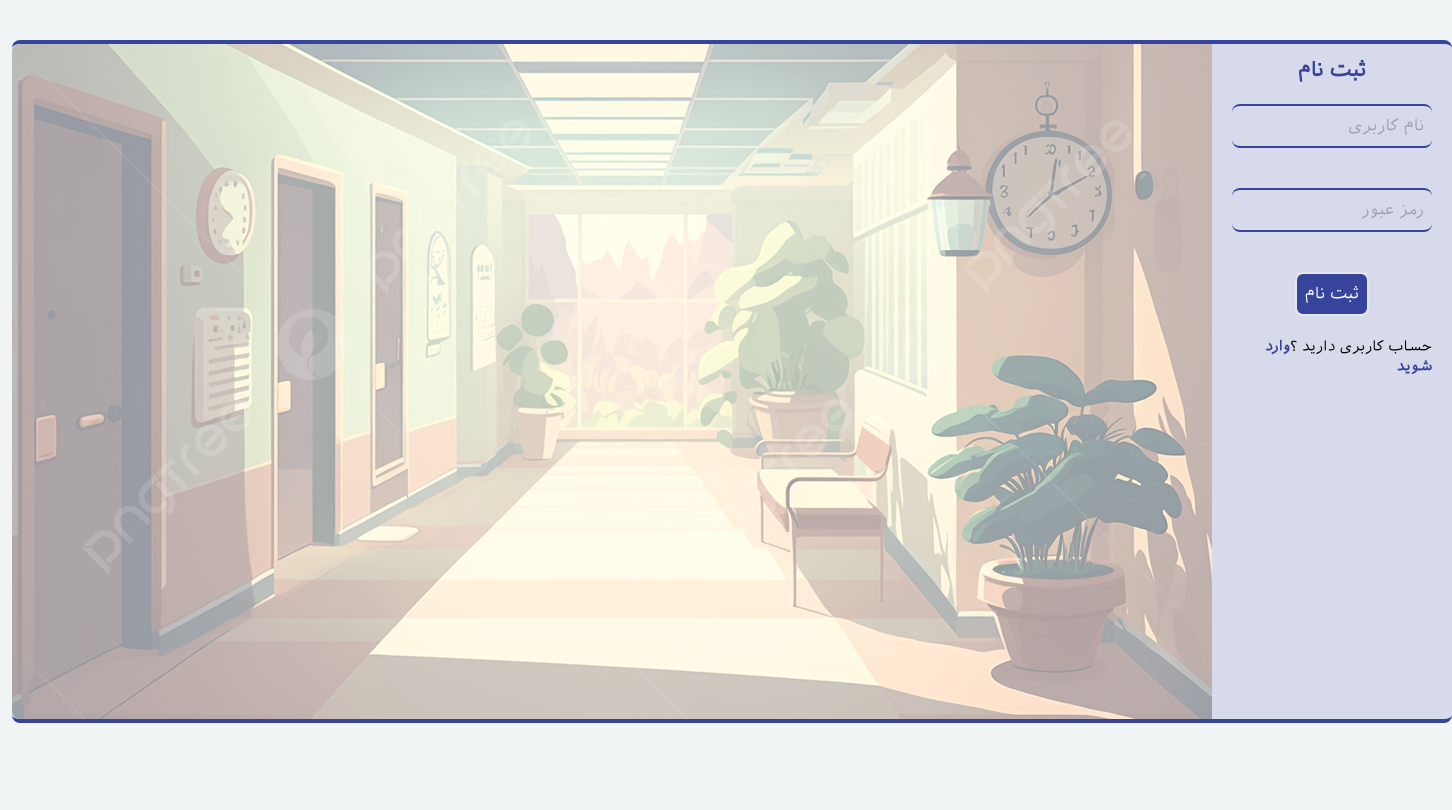
Test: testing error handling › username error test
The image size is (1452, 810).
expect the text "لطفا یوزرنیم معتبر وارد کنید" is not shown: met
Type "salam" into the field with placeholder "نام کاربری" at [1332, 126], box [1232, 104, 1432, 148]
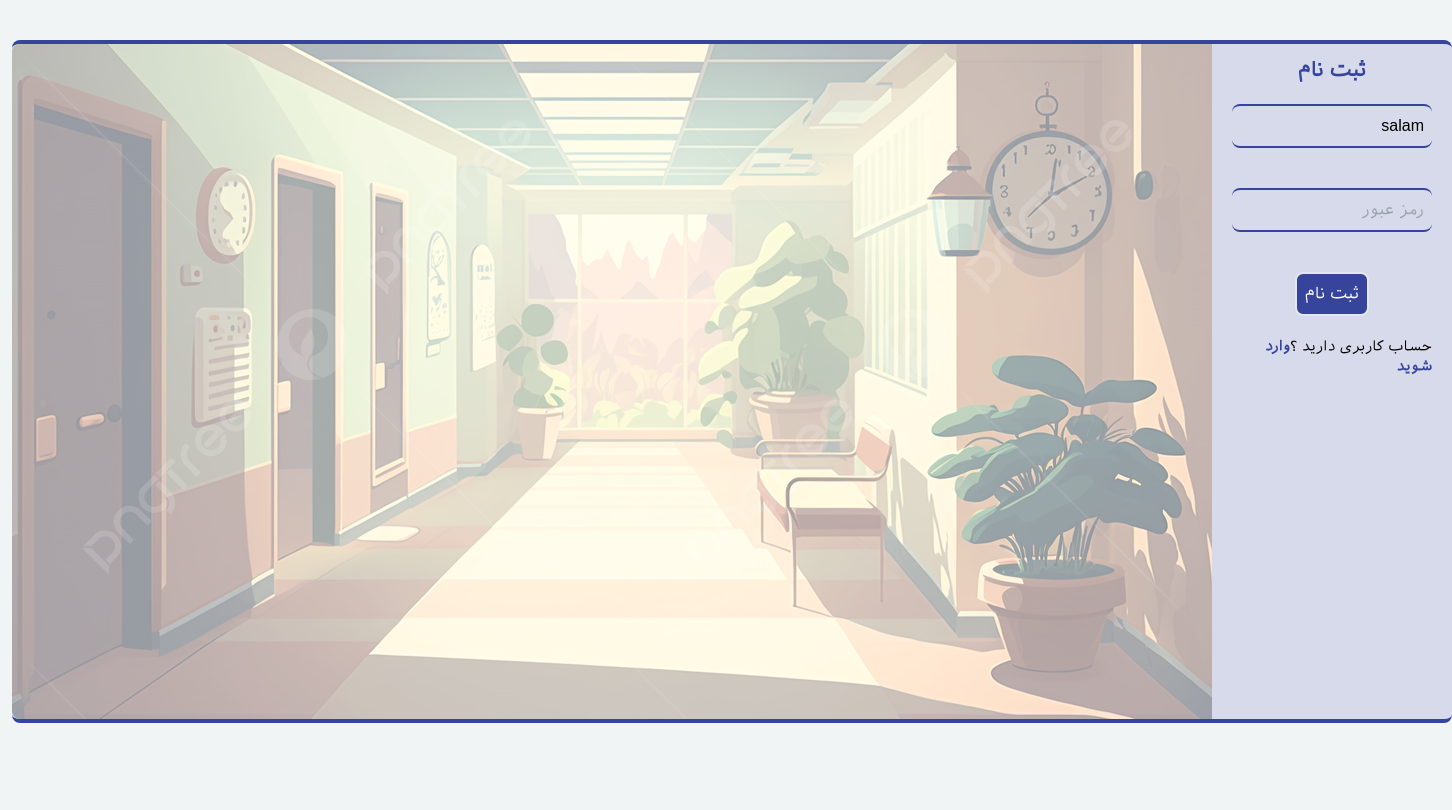
Type "123456" into the password field with placeholder "رمز عبور" at [1332, 210], box [1232, 188, 1432, 232]
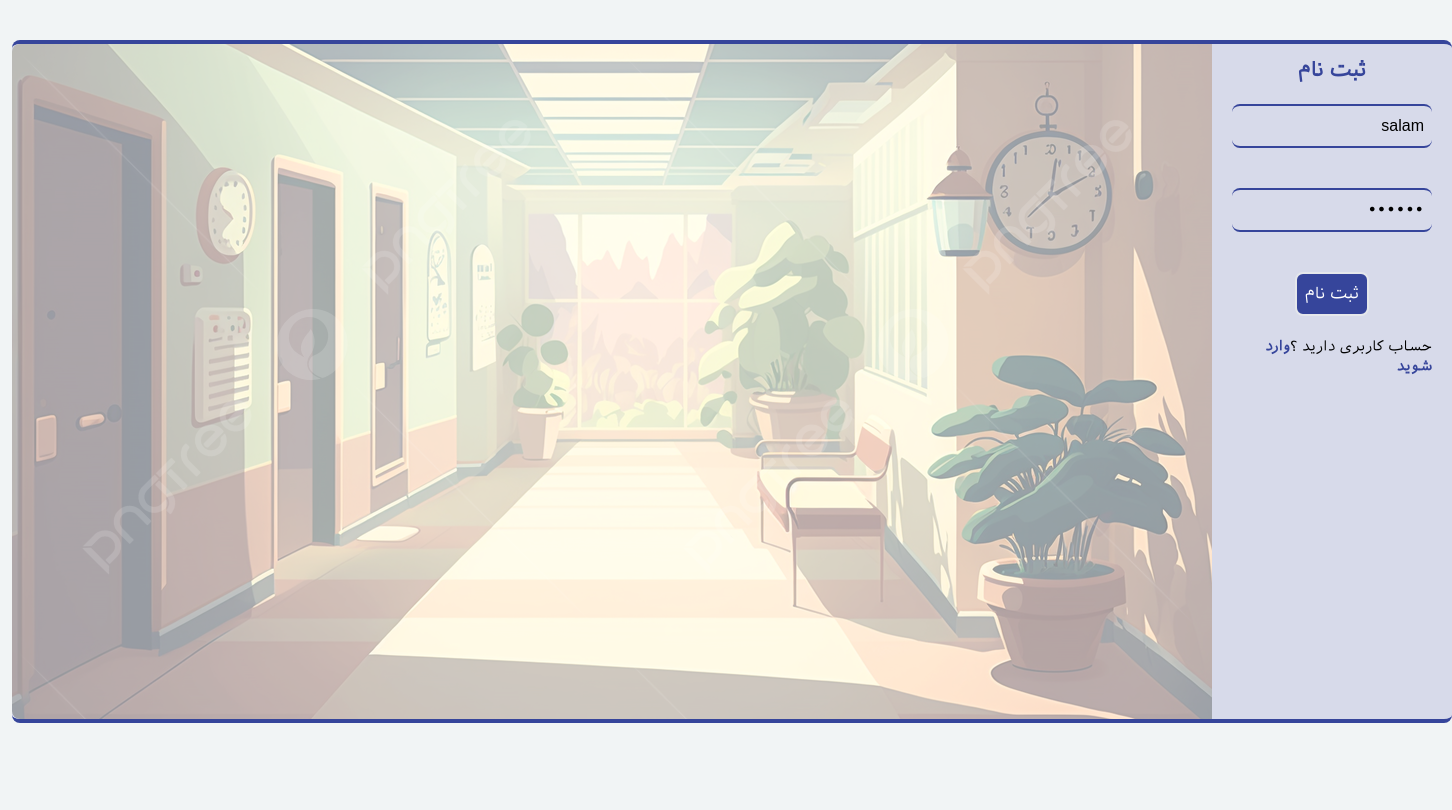
Click the button at [1332, 294], box [1295, 272, 1369, 316]
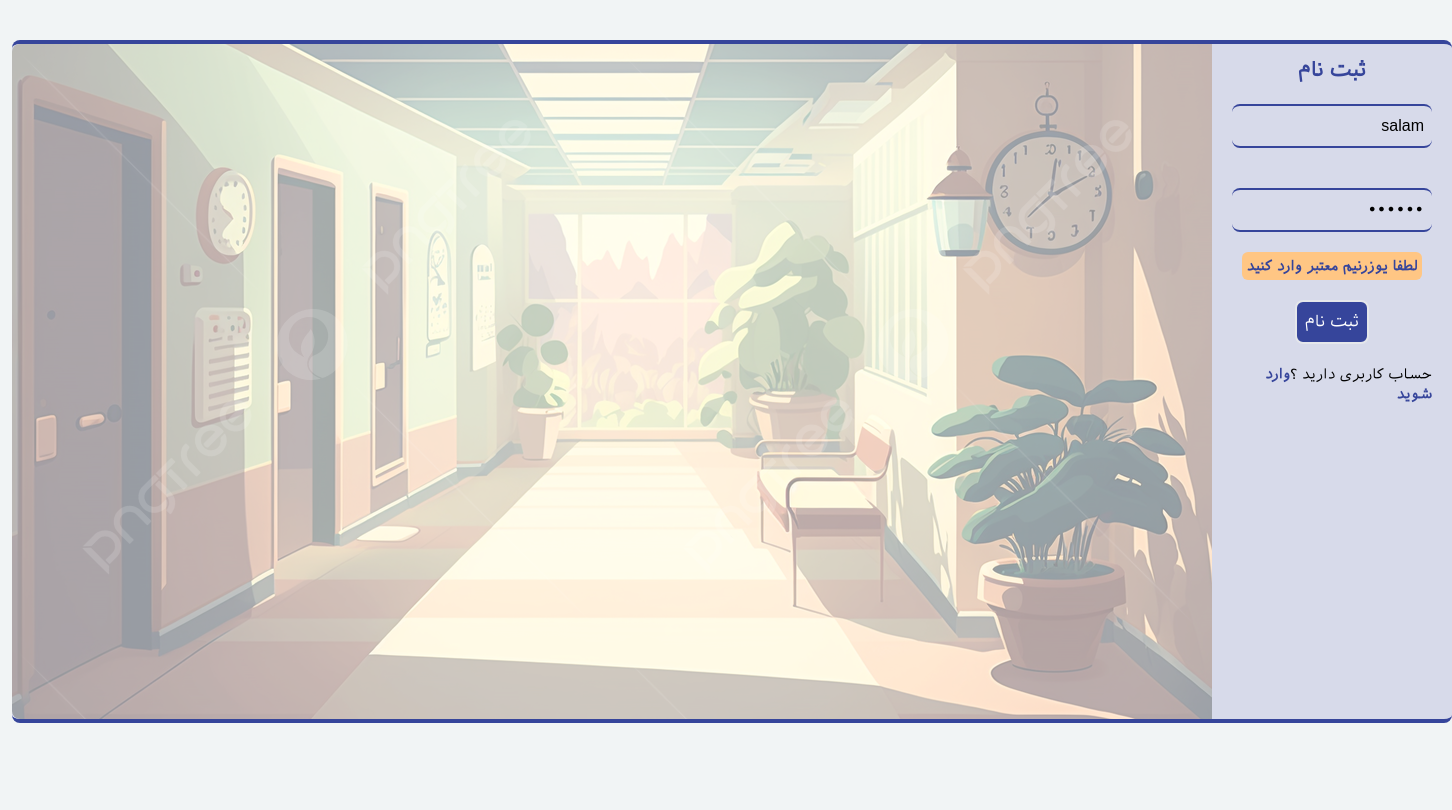
expect the text "لطفا یوزرنیم معتبر وارد کنید" is shown: met, box [1242, 252, 1422, 280]
